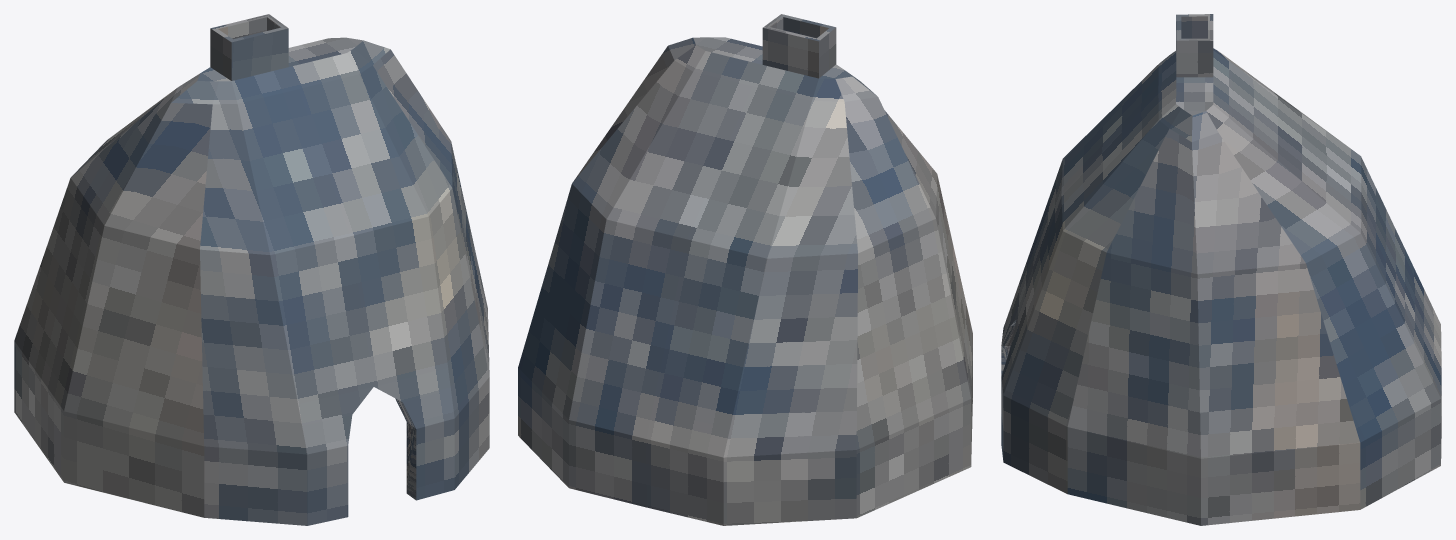
Rendered from HouseSimple.fbx.
The picture shows the model from 3 angles, left to right: view 1: azimuth 30°, elevation 25°; view 2: azimuth 150°, elevation 25°; view 3: azimuth 270°, elevation 25°; orthographic projection. The views are drawn at different scales.
Parts seen in each view (by area): view 1: SimpleHouse.001; view 2: SimpleHouse.001; view 3: SimpleHouse.001.
Boxes of the visible parts, x1,y1,x2,y2 form: SimpleHouse.001: (14,14,489,525); SimpleHouse.001: (518,14,972,525); SimpleHouse.001: (1001,14,1441,525).
Bounding box in the file's own units: 2881 × 2679 × 2758.
1 material, 1 textured.
